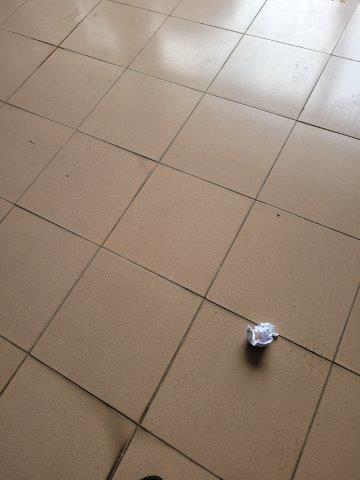kertas: (247, 322, 277, 348)
